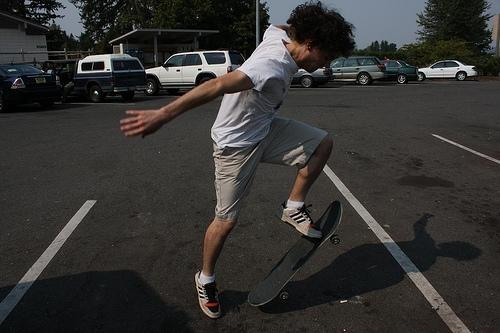car: (75, 53, 150, 102), (1, 64, 55, 105), (331, 57, 386, 86), (418, 60, 479, 82), (370, 60, 419, 84), (292, 66, 332, 88)
truck: (147, 46, 244, 91), (73, 53, 148, 104)
